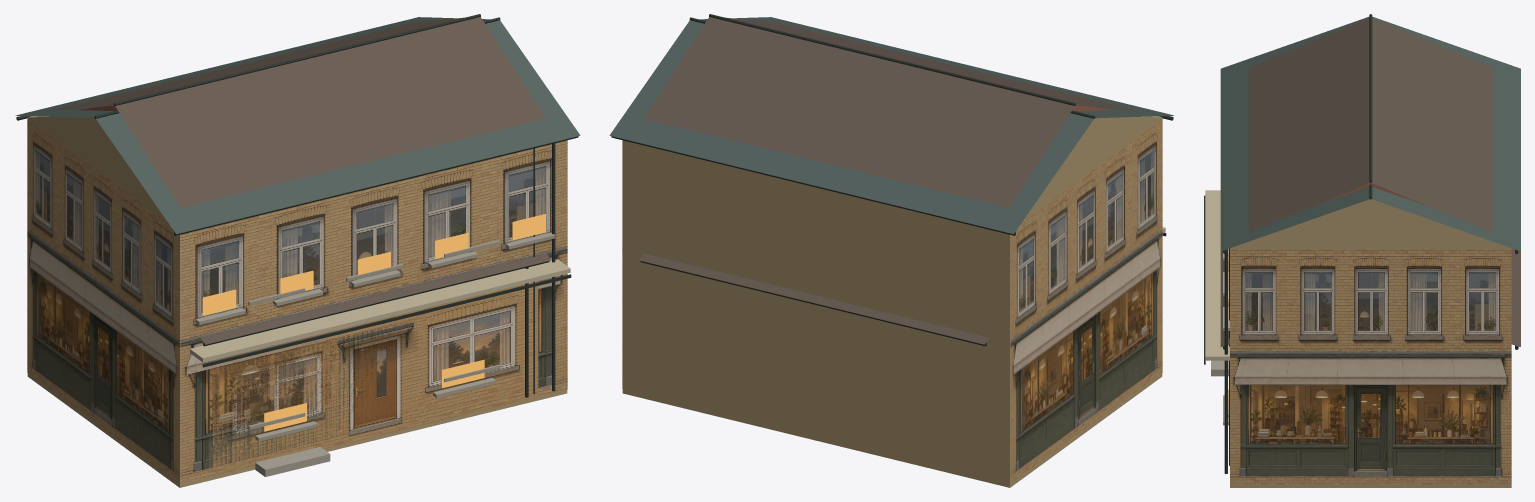
The model's file is danish-illustrated-kit.glb.
3 views of the same model, side by side, from view 1: azimuth 30°, elevation 25°; view 2: azimuth 150°, elevation 25°; view 3: azimuth 270°, elevation 25° (orthographic). The views are drawn at different scales.
Visible parts, largest first — view 1: MAIN__KIT_SHOP_FACADE, MAIN__KIT_ROOF, MAIN__KIT_YELLOW_FACADE, MAIN__KIT_ROOF_COOL, DETAIL__KIT_CREAM, MAIN__KIT_OCHRE, DETAIL__KIT_INK.001, DETAIL__KIT_WINDOW_GLOW.001, MAIN__KIT_ROOF.001, DETAIL__KIT_STONE.001, DETAIL__KIT_STONE, DETAIL__KIT_INK (+4 smaller); view 2: MAIN__KIT_OCHRE, MAIN__KIT_ROOF, MAIN__KIT_SHOP_FACADE, MAIN__KIT_OCHRE.001, MAIN__KIT_ROOF_COOL, MAIN__KIT_ROOF.001, DETAIL__KIT_INK, DETAIL__KIT_INK.001, DETAIL__KIT_INK.002; view 3: MAIN__KIT_SHOP_FACADE, MAIN__KIT_ROOF, MAIN__KIT_ROOF_COOL, MAIN__KIT_OCHRE, DETAIL__KIT_CREAM, MAIN__KIT_ROOF.001, DETAIL__KIT_INK.001, DETAIL__KIT_INK.
Part boxes in pixels (box(x1,y1,x2,y2)): MAIN__KIT_SHOP_FACADE: box(27, 119, 567, 483); MAIN__KIT_ROOF: box(50, 17, 545, 207); MAIN__KIT_YELLOW_FACADE: box(209, 281, 538, 476); MAIN__KIT_ROOF_COOL: box(15, 17, 580, 233); DETAIL__KIT_CREAM: box(190, 259, 570, 362); MAIN__KIT_OCHRE: box(27, 116, 567, 487); DETAIL__KIT_INK.001: box(16, 17, 578, 391); DETAIL__KIT_WINDOW_GLOW.001: box(202, 214, 545, 315); MAIN__KIT_ROOF.001: box(201, 254, 551, 344); DETAIL__KIT_STONE.001: box(195, 232, 555, 476); DETAIL__KIT_STONE: box(248, 240, 500, 465); DETAIL__KIT_INK: box(114, 14, 534, 393); MAIN__KIT_OCHRE: box(622, 116, 1162, 487); MAIN__KIT_ROOF: box(644, 17, 1139, 207); MAIN__KIT_SHOP_FACADE: box(622, 119, 1162, 483); MAIN__KIT_OCHRE.001: box(652, 265, 980, 479); MAIN__KIT_ROOF_COOL: box(609, 17, 1174, 233); MAIN__KIT_ROOF.001: box(638, 253, 989, 344); DETAIL__KIT_INK: box(709, 14, 1075, 105); DETAIL__KIT_INK.001: box(611, 17, 1173, 236); DETAIL__KIT_INK.002: box(640, 260, 986, 346); MAIN__KIT_SHOP_FACADE: box(1230, 249, 1511, 484); MAIN__KIT_ROOF: box(1248, 18, 1492, 232); MAIN__KIT_ROOF_COOL: box(1220, 16, 1520, 251); MAIN__KIT_OCHRE: box(1230, 199, 1511, 487); DETAIL__KIT_CREAM: box(1205, 190, 1229, 360); MAIN__KIT_ROOF.001: box(1220, 248, 1520, 346); DETAIL__KIT_INK.001: box(1204, 14, 1518, 473); DETAIL__KIT_INK: box(1229, 15, 1372, 465).
Bounding box in the file's own units: 10.44 × 8.06 × 7.64.
19 materials, 7 textured.
